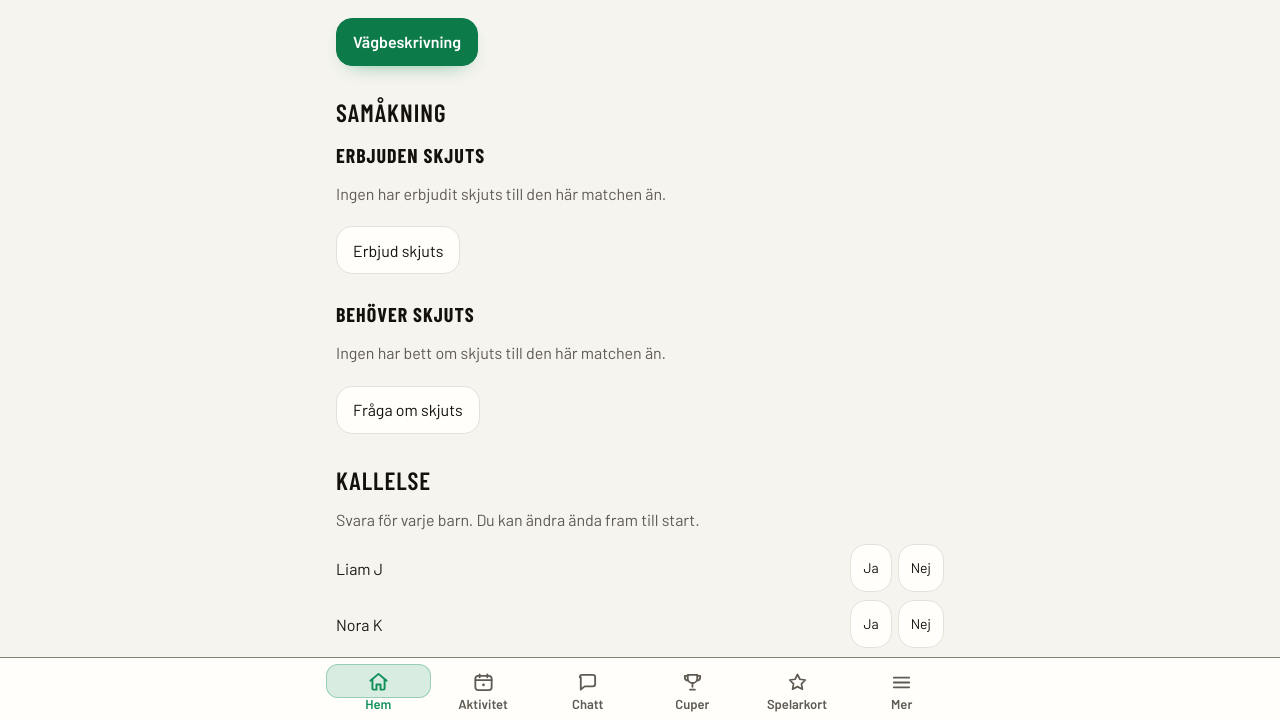
vårdnadshavaren svarar per barn › fryser inte syskonens knappar medan ett barns svar är i flykt (#592)
(page scrolled)
What coordinates should you click on to do the following:
click the button "Ja" in the row of "Liam J"
I would click on:
 (871, 568)
Its box is [850, 544, 892, 592].
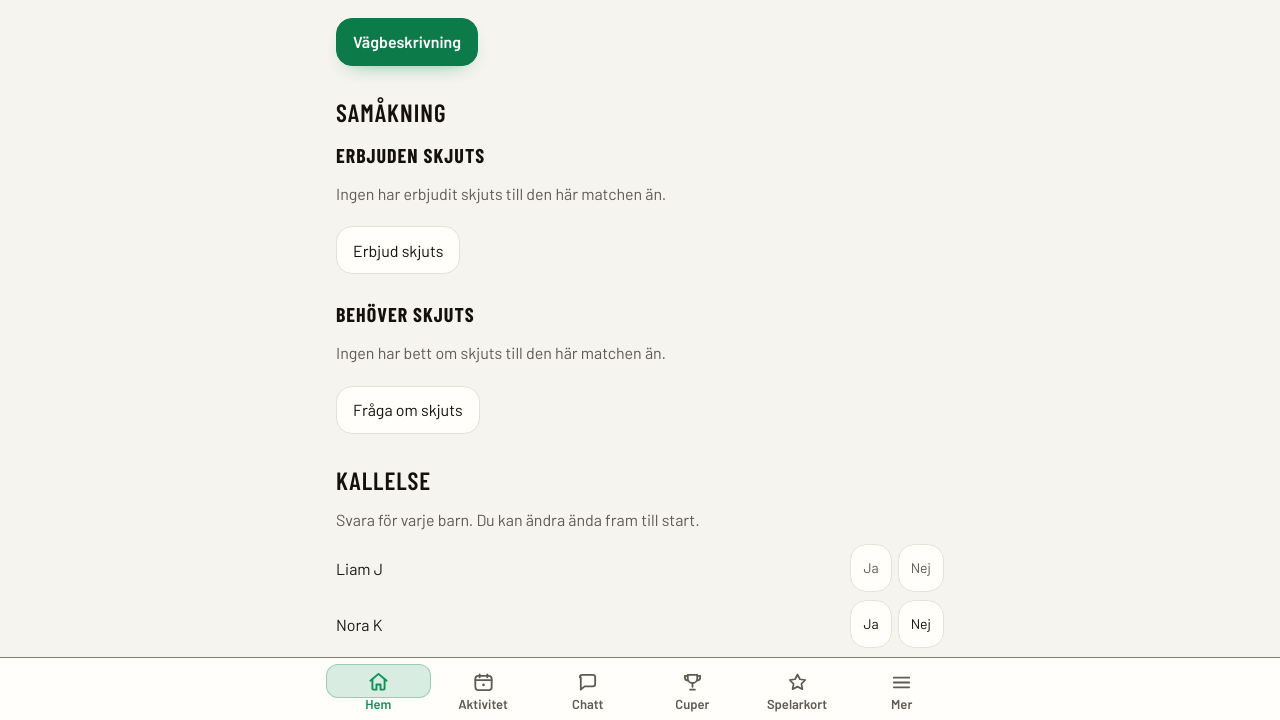
Expected: the button "Ja" in the row of "Nora K" is enabled, [850, 600, 892, 648]
Result: the button "Ja" in the row of "Liam J" is disabled at [850, 544, 892, 592]
Result: the button "Nej" in the row of "Liam J" is disabled at [898, 544, 944, 592]
